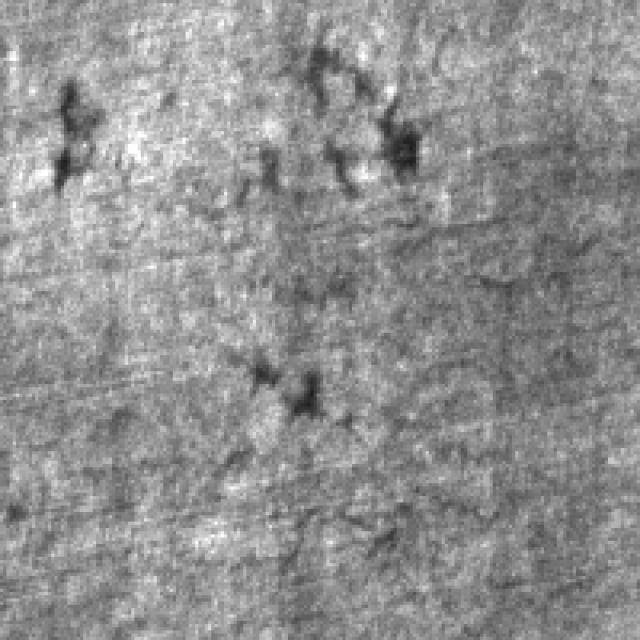crazing: (80, 342, 490, 570), (102, 12, 474, 218)
